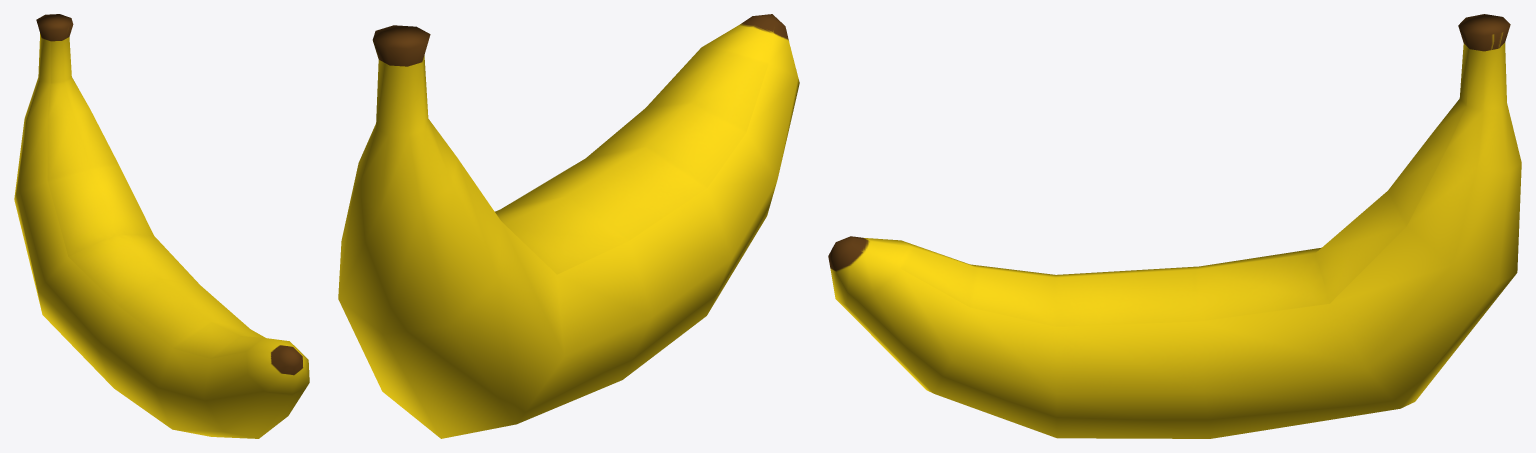
Rendered from BananaWhole.fbx.
3 views of the same model, side by side, from view 1: azimuth 30°, elevation 25°; view 2: azimuth 150°, elevation 25°; view 3: azimuth 270°, elevation 25° (orthographic). The views are drawn at different scales.
Parts seen in each view (by area): view 1: Banana; view 2: Banana; view 3: Banana.
Part boxes in pixels (box(x1,y1,x2,y2)): Banana: box(14, 14, 309, 438); Banana: box(338, 14, 799, 438); Banana: box(828, 14, 1521, 438).
Size of the model in its own units: 24.33 by 57.53 by 87.94.
